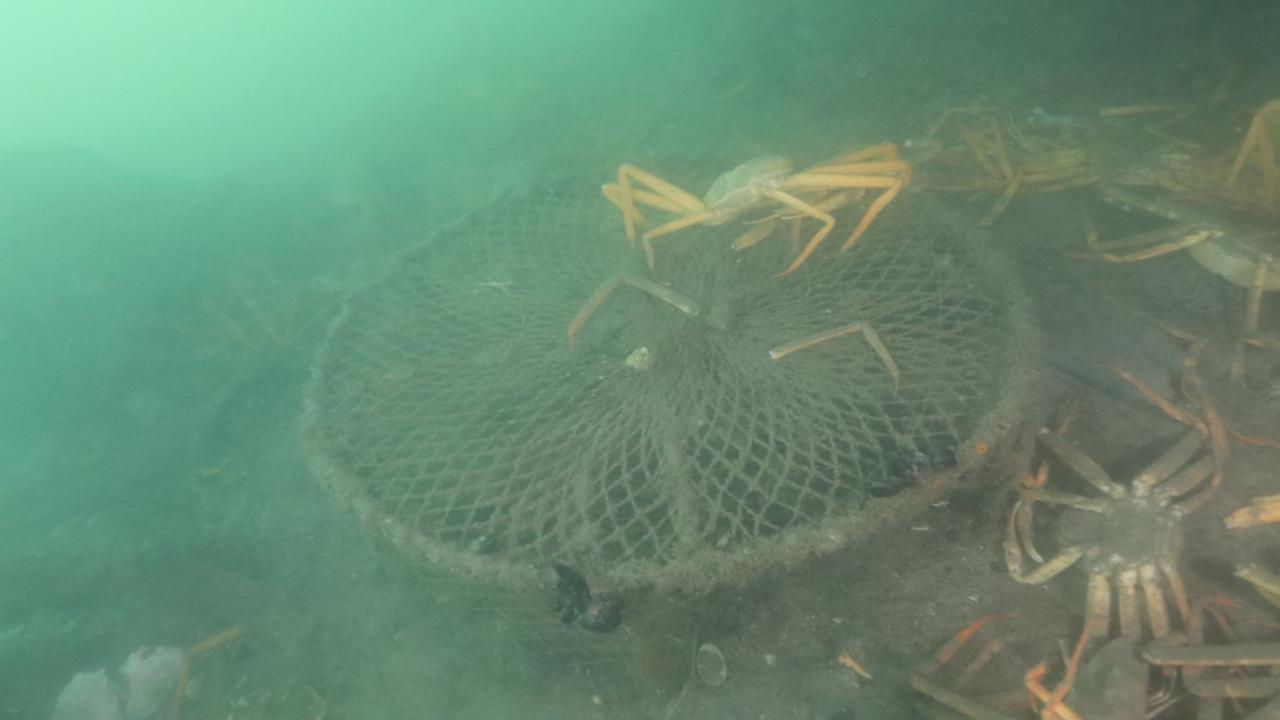circular fish trap: (297, 154, 1043, 659)
